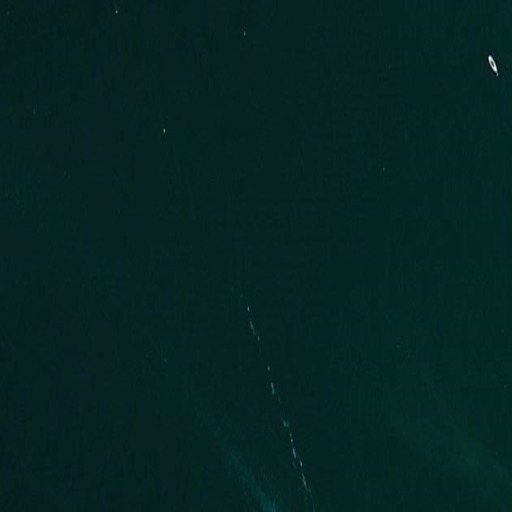ship: (486, 53, 500, 75)
